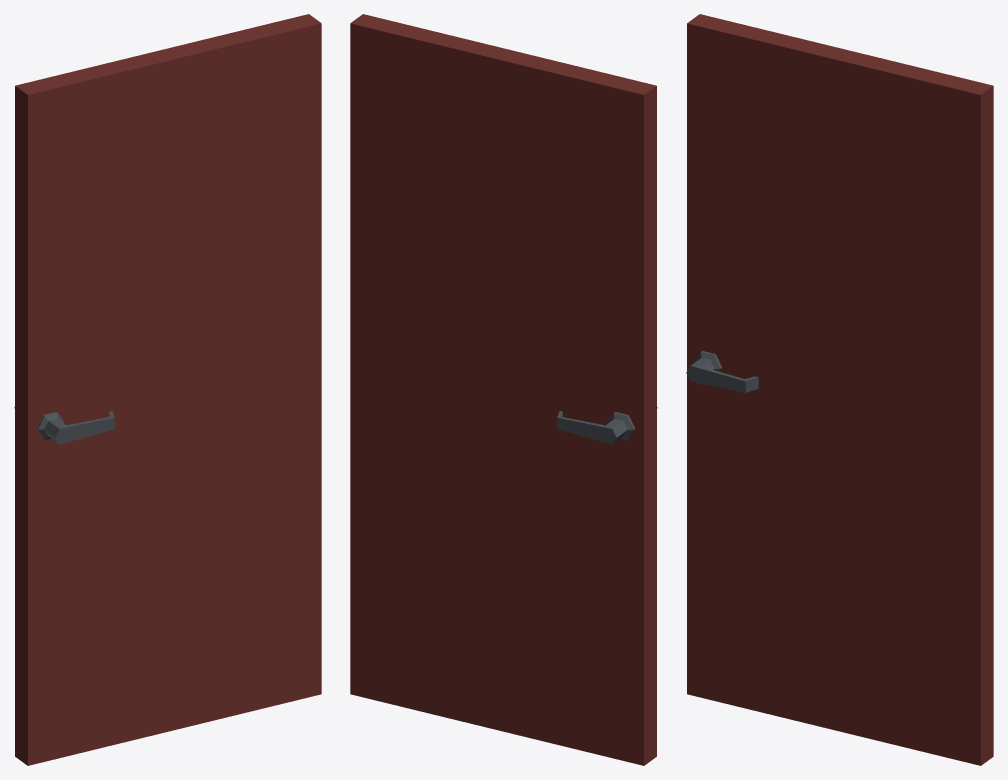
Rendered from SM_Bld_RepairShop_Large_01_Door_02.fbx.
The picture shows the model from 3 angles, left to right: view 1: azimuth 30°, elevation 25°; view 2: azimuth 150°, elevation 25°; view 3: azimuth 330°, elevation 25°; orthographic projection.
Parts seen in each view (by area): view 1: SM_Bld_RepairShop_Large_01_Door_02; view 2: SM_Bld_RepairShop_Large_01_Door_02; view 3: SM_Bld_RepairShop_Large_01_Door_02.
Part boxes in pixels (x1,y1,x2,y2): SM_Bld_RepairShop_Large_01_Door_02: (14, 14, 321, 765); SM_Bld_RepairShop_Large_01_Door_02: (350, 14, 657, 765); SM_Bld_RepairShop_Large_01_Door_02: (686, 14, 993, 765).
Size of the model in its own units: 101 by 221 by 24.59.
